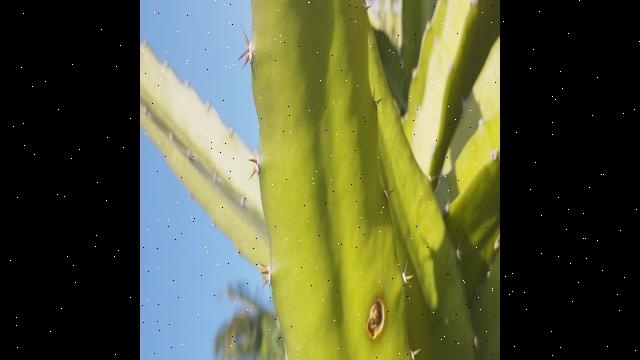stemcanker: (365, 297, 387, 343)
